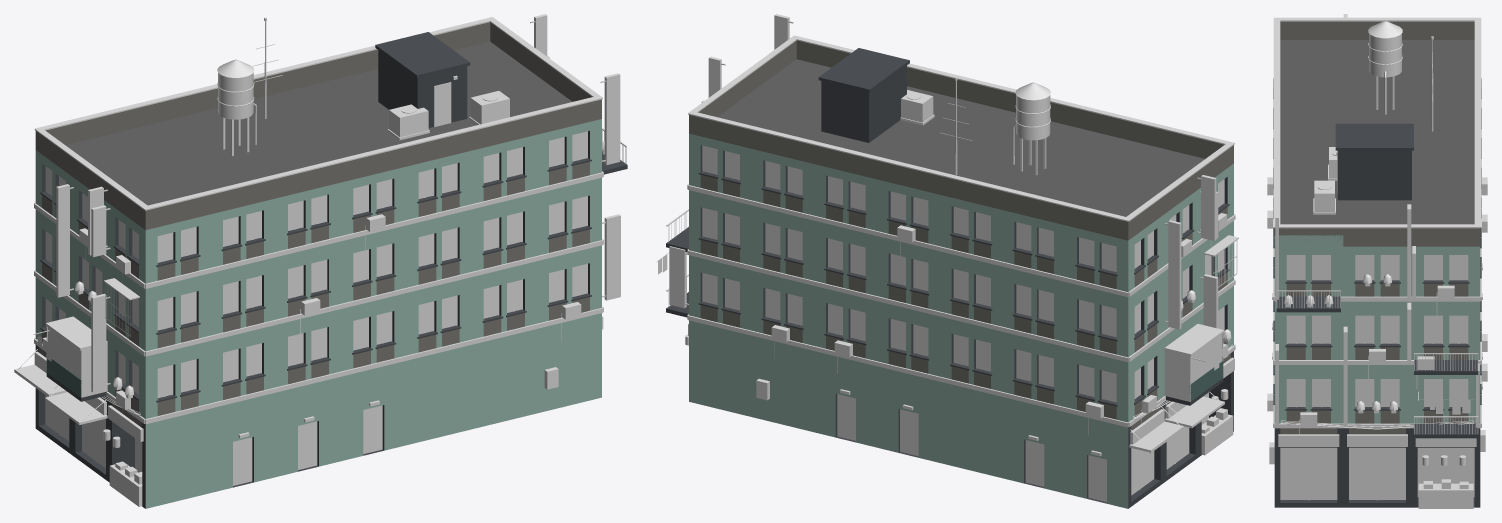
Rendered from Plaza_Block_17.fbx.
The picture shows the model from 3 angles, left to right: view 1: azimuth 30°, elevation 25°; view 2: azimuth 150°, elevation 25°; view 3: azimuth 270°, elevation 25°; orthographic projection. The views are drawn at different scales.
Visible parts, largest first — view 1: Plaza_Block_17_LOD0; view 2: Plaza_Block_17_LOD0; view 3: Plaza_Block_17_LOD0.
Boxes of the visible parts, <box> form: Plaza_Block_17_LOD0: <box>14,14,627,508</box>; Plaza_Block_17_LOD0: <box>656,14,1238,508</box>; Plaza_Block_17_LOD0: <box>1267,14,1487,508</box>.
Size of what is drawn, in the model's own units: 28.3 by 19.06 by 10.73.
